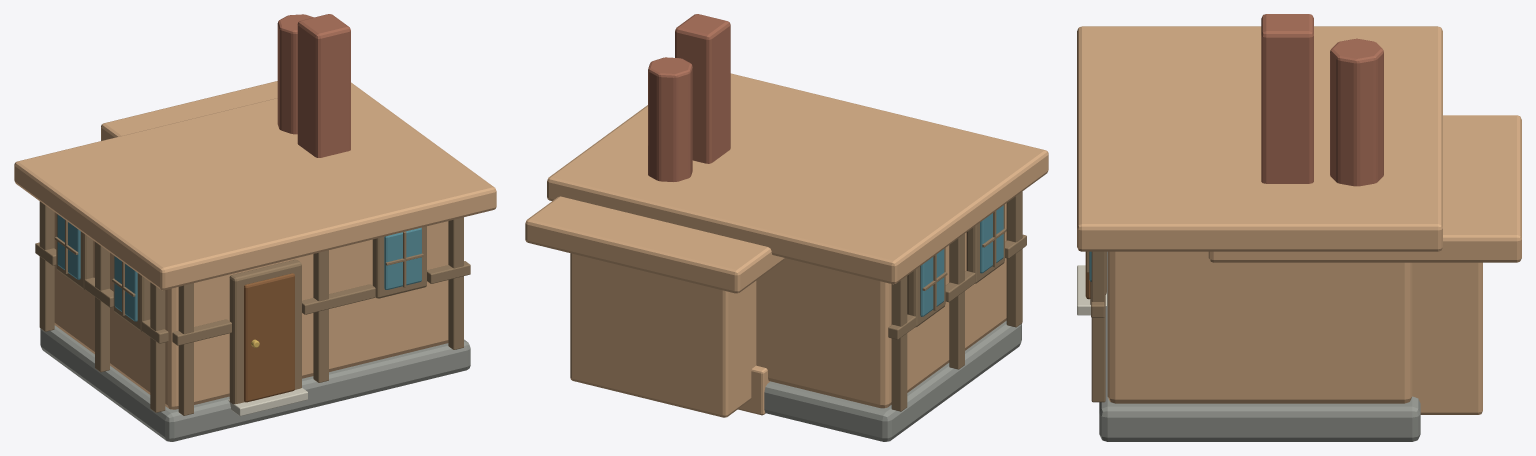
Rendered from arid-cottage-3.glb.
The picture shows the model from 3 angles, left to right: view 1: azimuth 30°, elevation 25°; view 2: azimuth 150°, elevation 25°; view 3: azimuth 270°, elevation 25°; orthographic projection. The views are drawn at different scales.
Visible parts, largest first — view 1: Adobe cream, Adobe plaster, Palm beams, Foundation stone, Chimney brick, Door oak, Blue glass, Cut limestone; view 2: Adobe cream, Adobe fieldstone, Adobe plaster, Chimney brick, Palm beams, Foundation stone, Blue glass, Adobe wood; view 3: Adobe cream, Adobe plaster, Chimney brick, Foundation stone, Adobe fieldstone, Palm beams, Cut limestone.
Part boxes in pixels (bbox=[...]): Adobe cream: bbox=[14, 81, 496, 290]; Adobe plaster: bbox=[54, 212, 448, 409]; Palm beams: bbox=[35, 201, 470, 415]; Foundation stone: bbox=[40, 325, 470, 441]; Chimney brick: bbox=[277, 14, 350, 157]; Door oak: bbox=[244, 273, 294, 402]; Blue glass: bbox=[57, 214, 421, 321]; Cut limestone: bbox=[228, 388, 307, 416]; Adobe cream: bbox=[525, 73, 1048, 293]; Adobe fieldstone: bbox=[570, 253, 756, 417]; Adobe plaster: bbox=[756, 203, 1006, 408]; Chimney brick: bbox=[648, 14, 730, 181]; Palm beams: bbox=[888, 191, 1026, 411]; Foundation stone: bbox=[764, 320, 1021, 441]; Blue glass: bbox=[920, 205, 1003, 316]; Adobe wood: bbox=[738, 365, 769, 415]; Adobe cream: bbox=[1077, 26, 1521, 262]; Adobe plaster: bbox=[1107, 251, 1412, 403]; Chimney brick: bbox=[1261, 14, 1383, 186]; Foundation stone: bbox=[1099, 251, 1420, 441]; Adobe fieldstone: bbox=[1412, 262, 1482, 414]; Palm beams: bbox=[1086, 251, 1106, 402]; Cut limestone: bbox=[1077, 265, 1106, 315].
Bounding box in the file's own units: 3.44 × 3.02 × 3.21.
